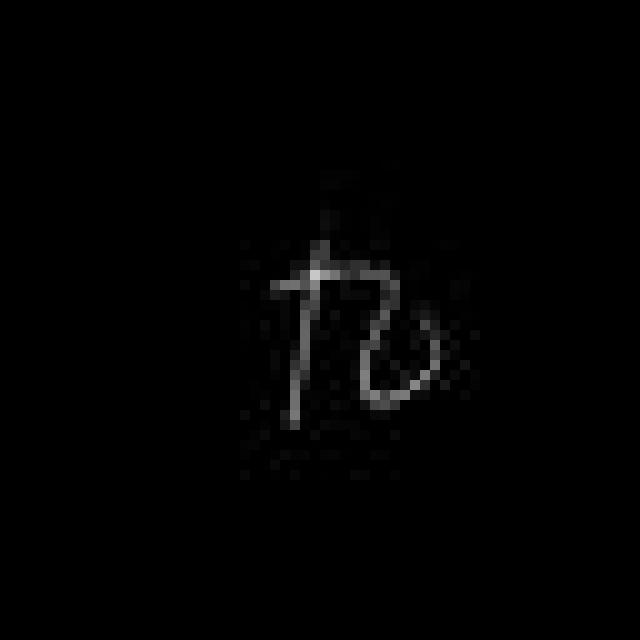9 -nine-: (253, 231, 447, 420)
